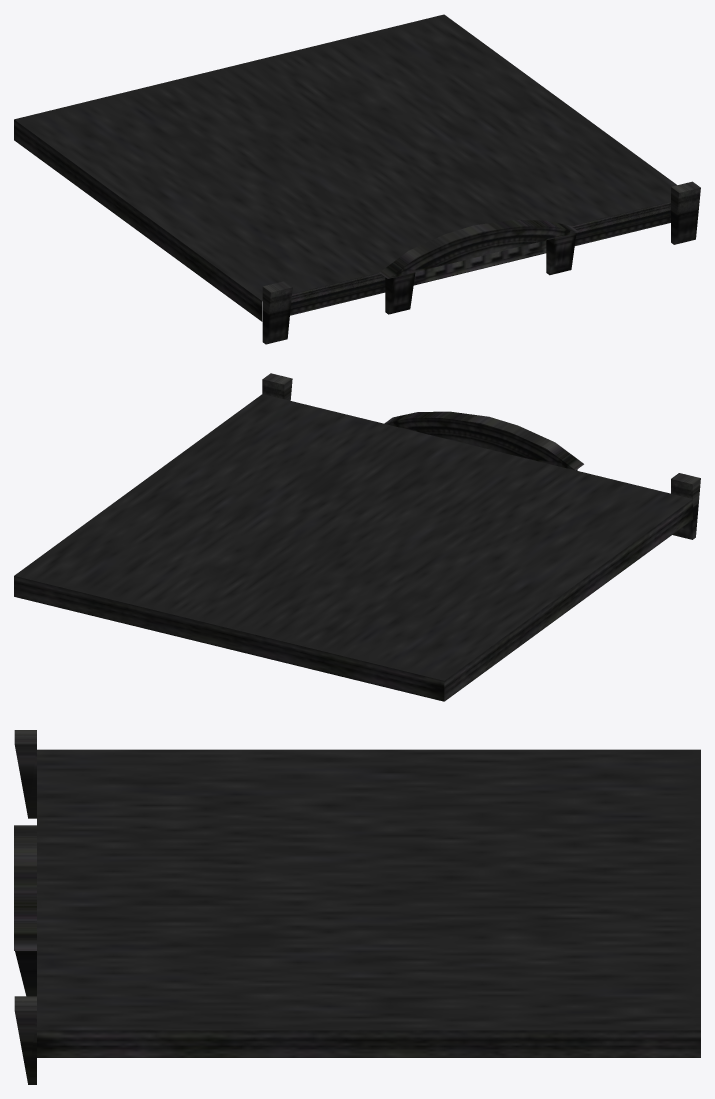
File: roof.obj
The picture shows the model from 3 angles, top to bottom: view 1: azimuth 30°, elevation 25°; view 2: azimuth 150°, elevation 25°; view 3: azimuth 270°, elevation 25°; orthographic projection. The views are drawn at different scales.
Parts seen in each view (by area): view 1: group; view 2: group; view 3: group.
Boxes of the visible parts, x1,y1,x2,y2 form: group: (14, 14, 700, 344); group: (14, 373, 700, 701); group: (14, 730, 700, 1084).
Bounding box in the file's own units: 10 × 1.45 × 10.35.
Materials: 1 (1 with a texture image).
